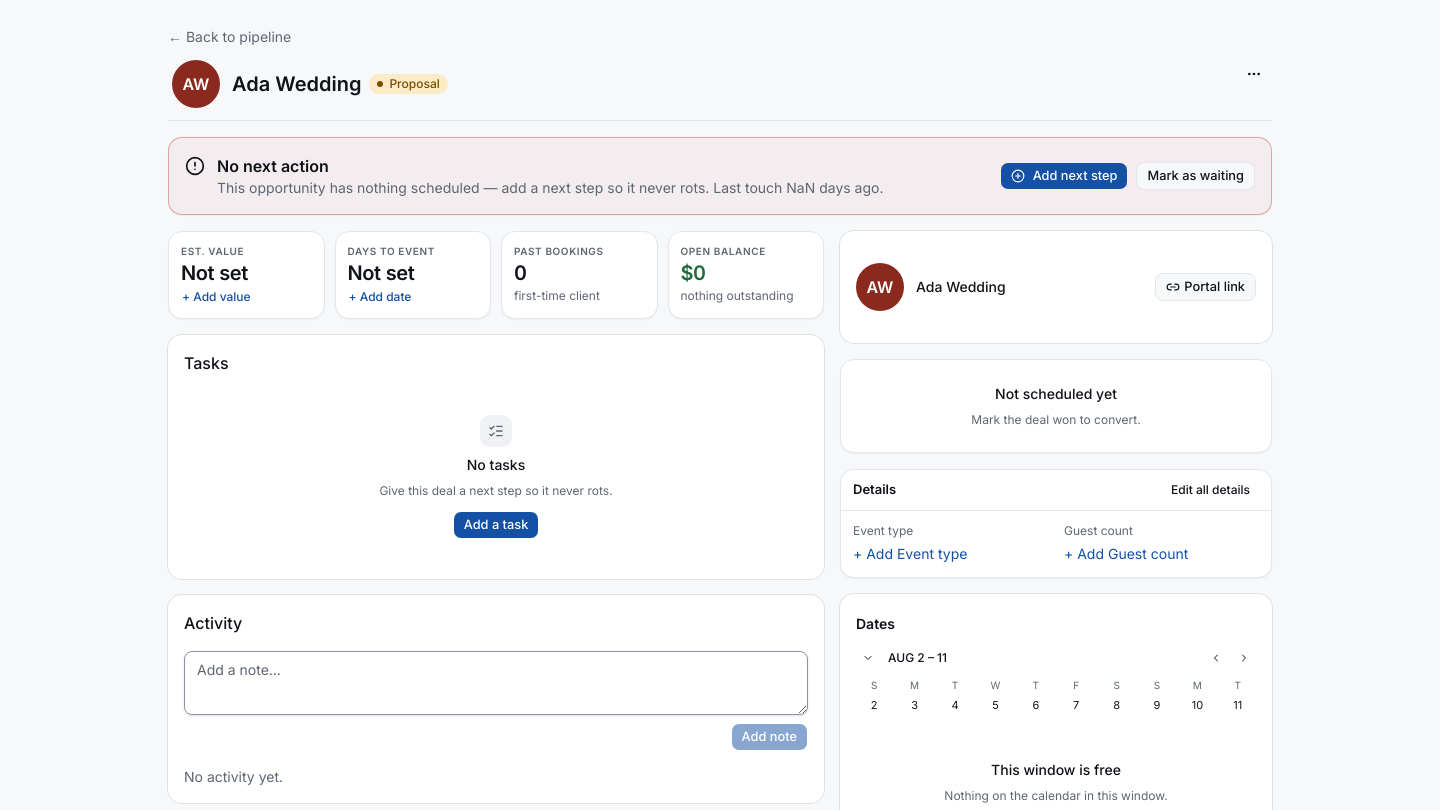
Scenario: OpportunityDetailClient › the quick-fact dialogs › writes the estimated value the operator typed
Click the button "+ Add value": {"x": 216, "y": 297} [181,288,252,306]
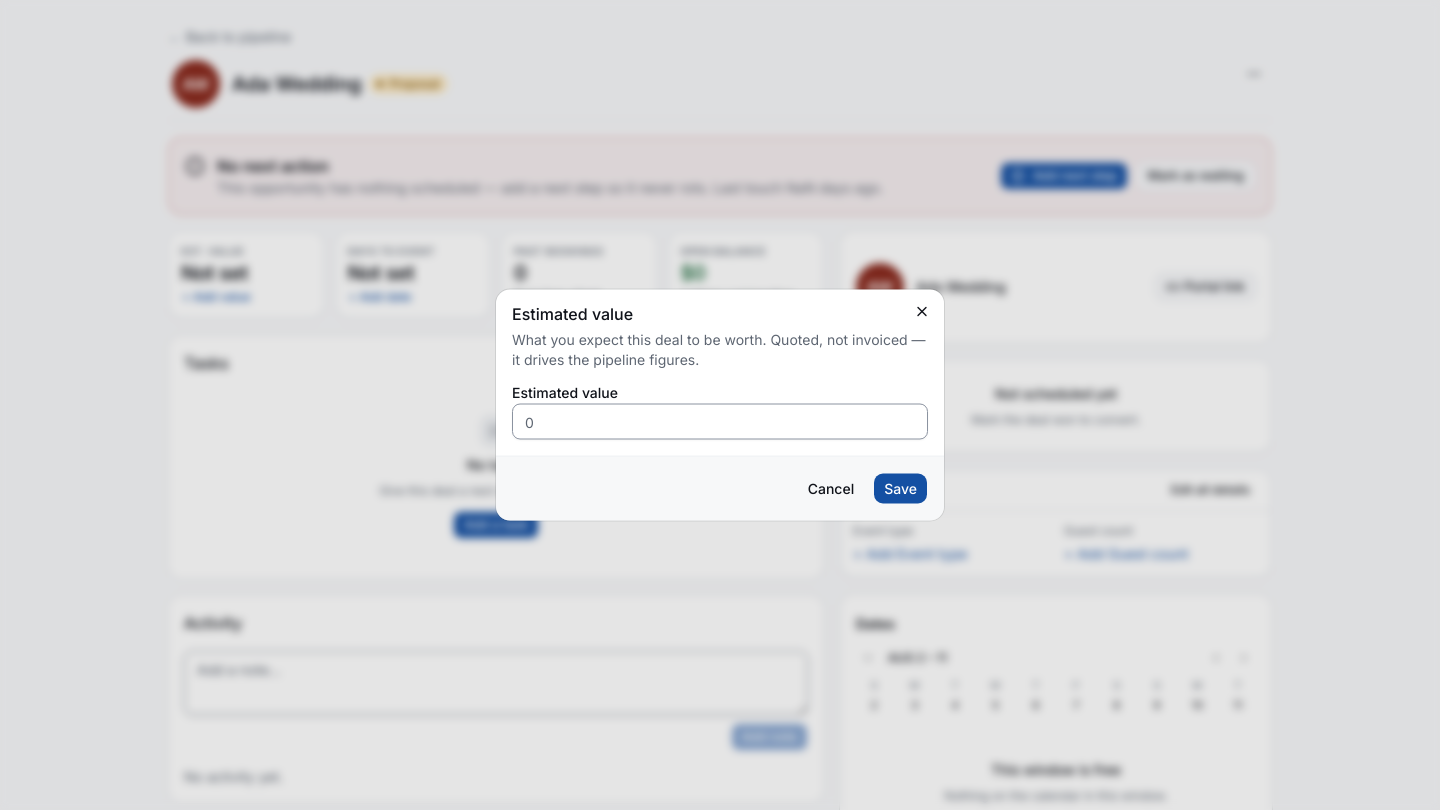
In the number field labelled "Estimated value": {"x": 720, "y": 422} [512,404,928,440], type "500"
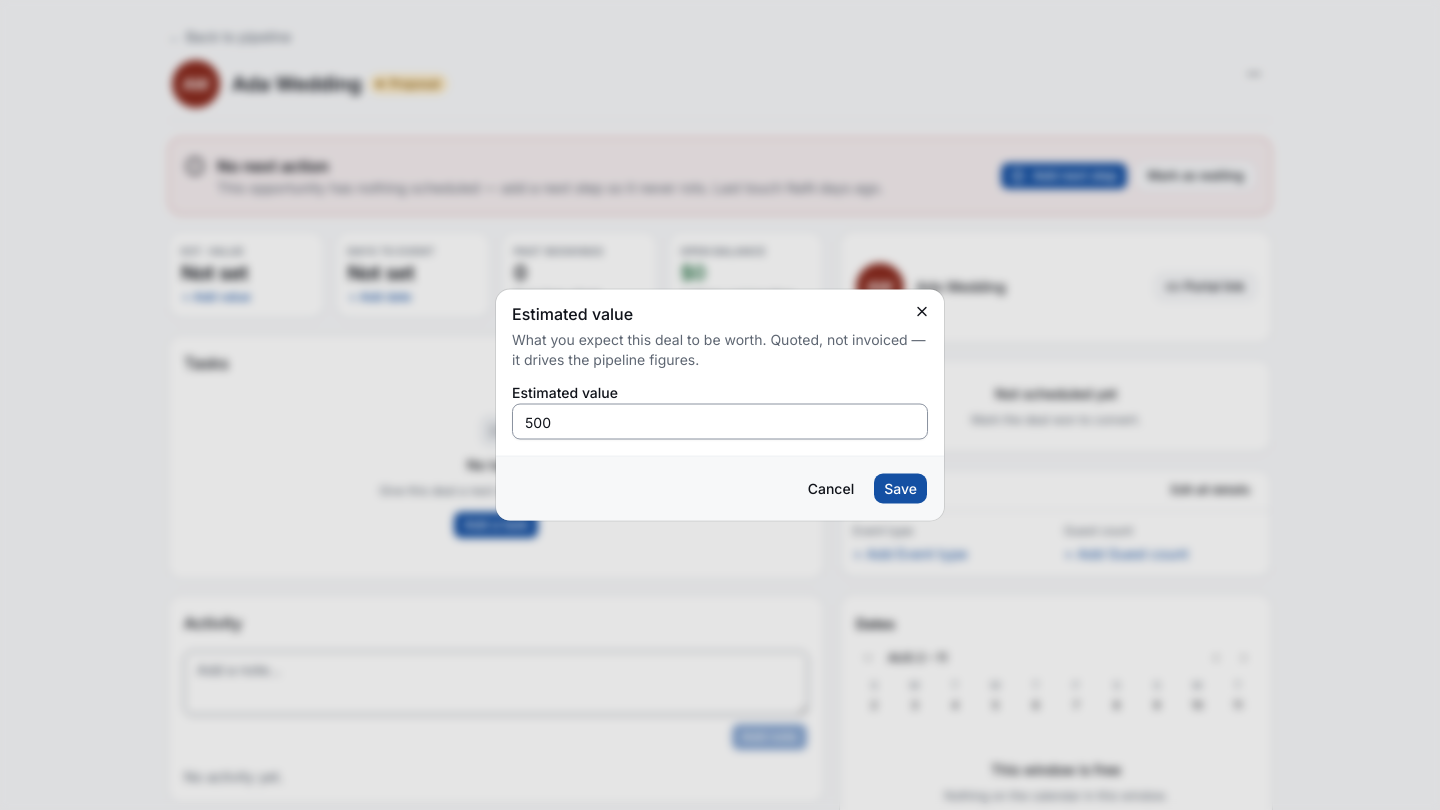
Click the button "Save": {"x": 901, "y": 488} [873,472,928,504]
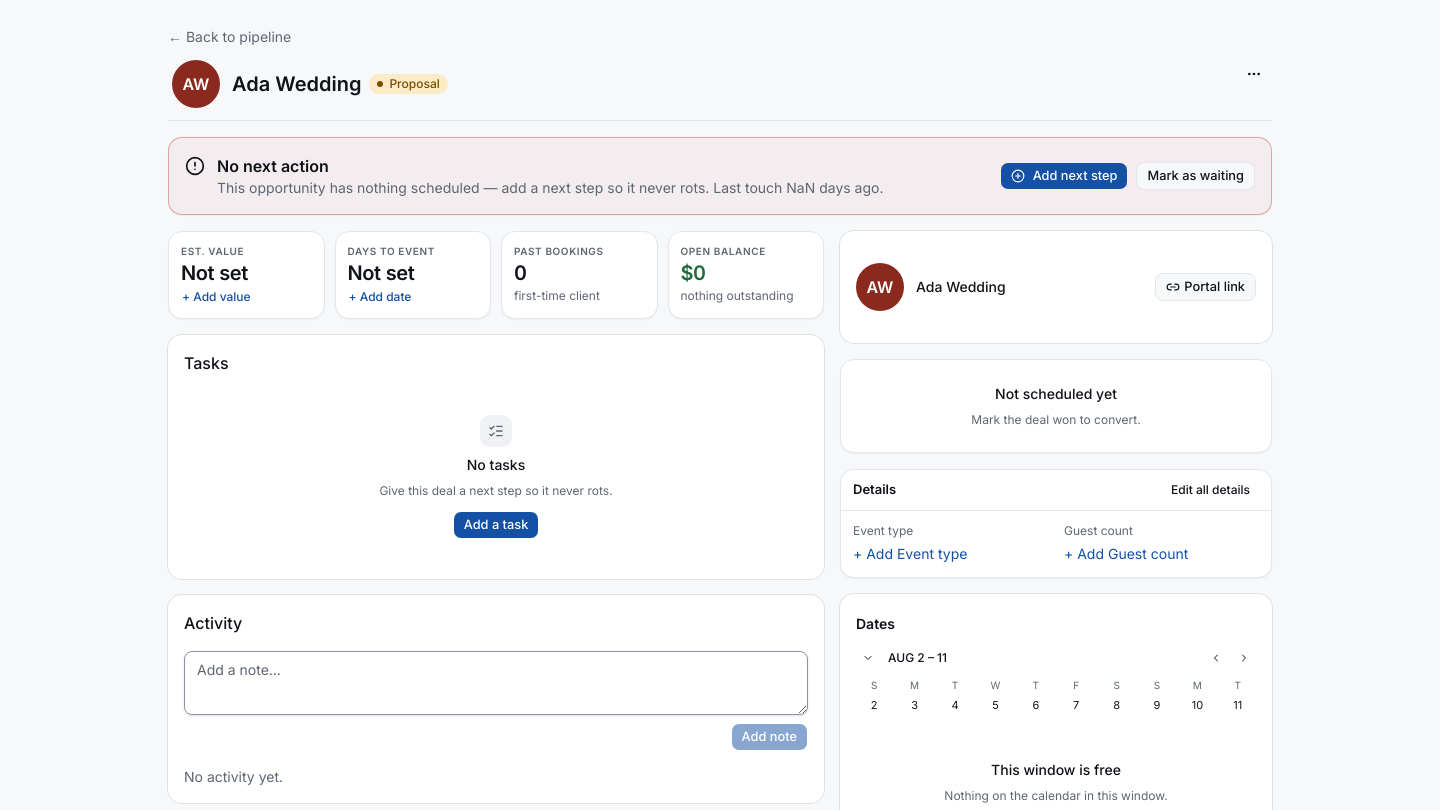
Result: the heading "Estimated value" is gone
